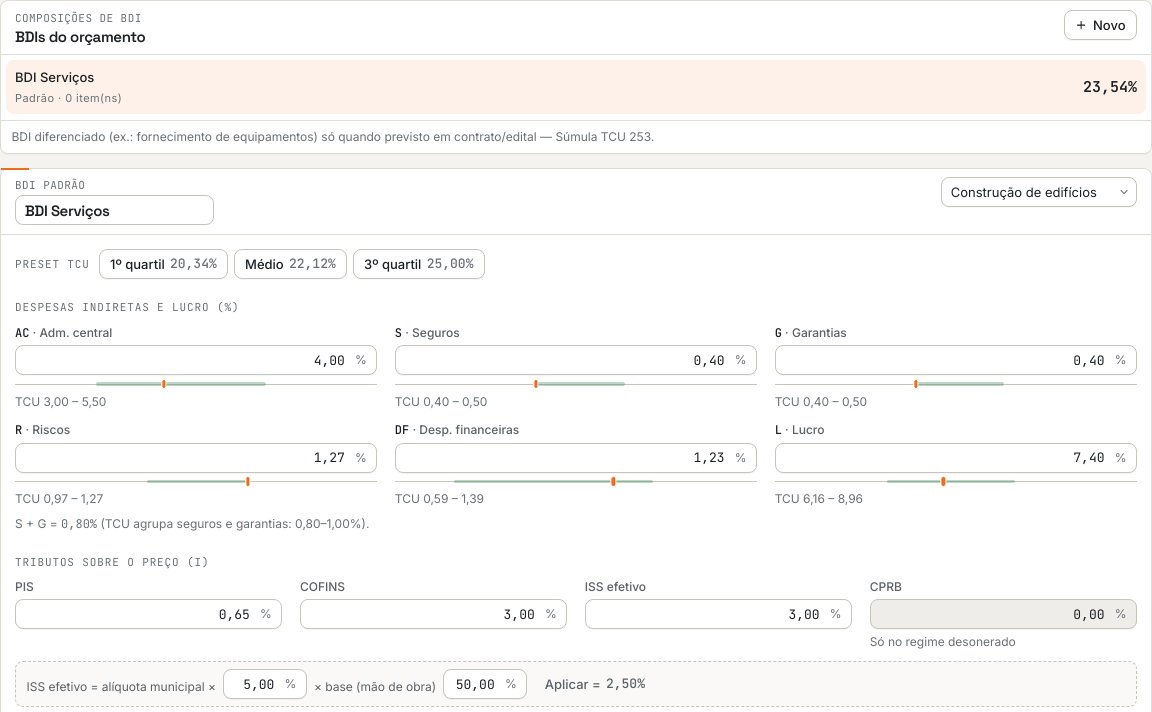
Test case: OrcamentoBdiPage › mostra o BDI calculado e recalcula ao vivo ao editar AC
The image size is (1152, 712).
Replace the text in the field labelled "AC · Adm. central" with "5,5" at (196, 360), box [15,345,377,375]
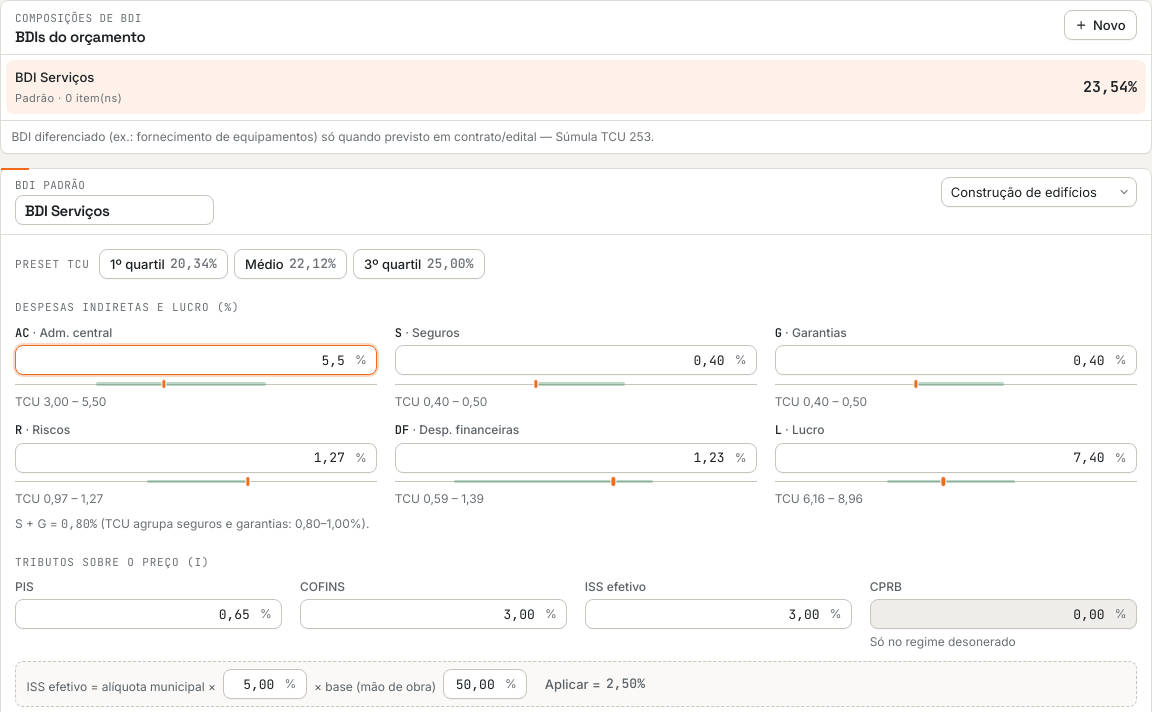
Leave the field labelled "AC · Adm. central", box [15,345,377,375]
(page scrolled)
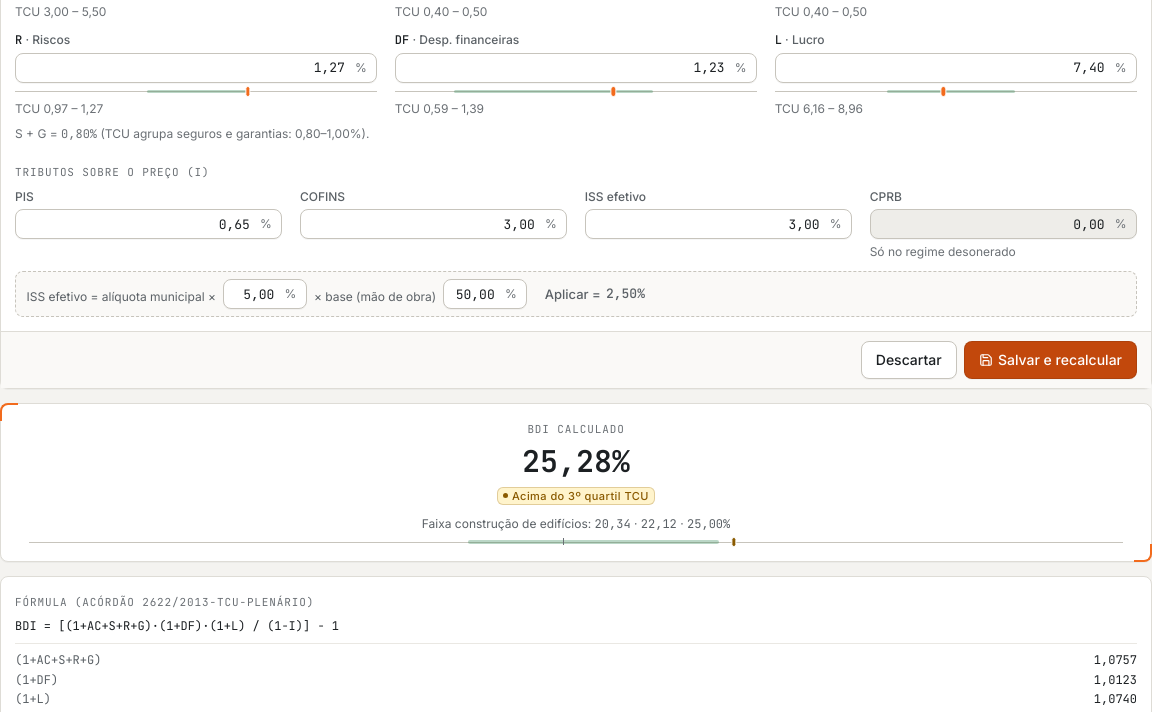
Result: the button "Salvar e recalcular" is enabled at [964,341,1137,379]
